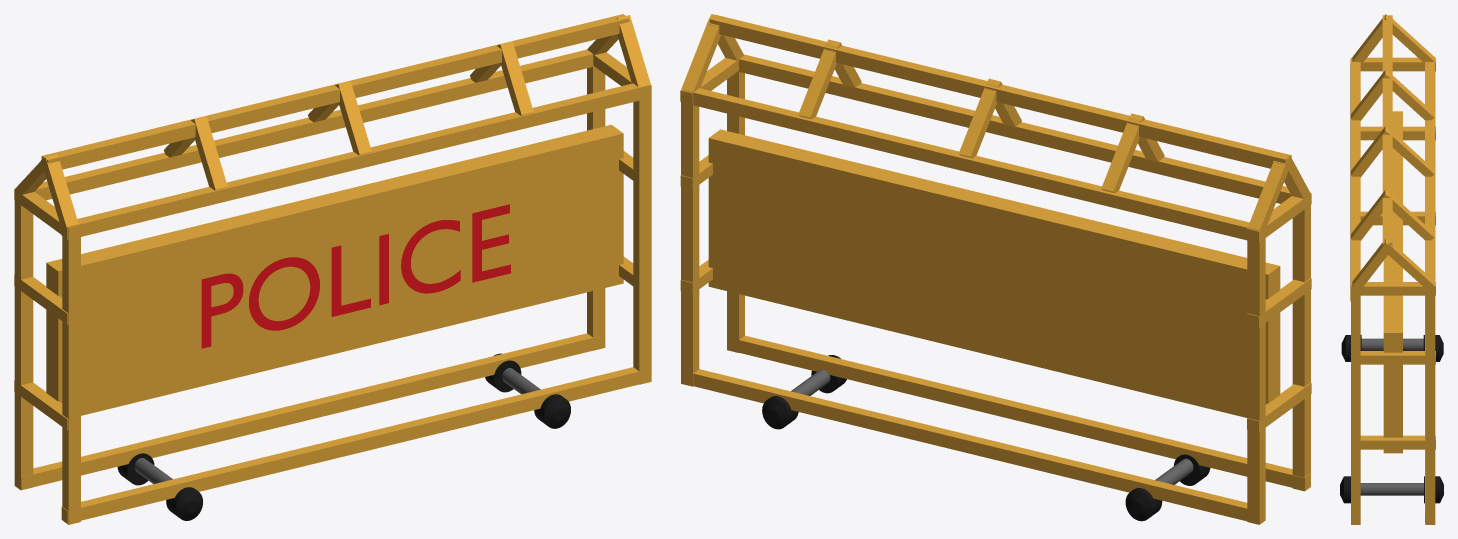
File: police barrier.fbx
3 views of the same model, side by side, from view 1: azimuth 30°, elevation 25°; view 2: azimuth 150°, elevation 25°; view 3: azimuth 270°, elevation 25° (orthographic). The views are drawn at different scales.
Visible parts, largest first — view 1: Cube, Cube.006, Cube.014, Cube.007, Cube.013, Cube.015, Text, Cube.001, Cube.008, Cube.002, Cube.009, Cube.017 (+10 smaller); view 2: Cube, Cube.015, Cube.006, Cube.007, Cube.013, Cube.014, Cube.002, Cube.009, Cube.001, Cube.008, Cube.018, Cube.020 (+9 smaller); view 3: Cube, Cube.009, Cube.008, Cube.013, Cube.015, Cube.014, Cube.010, Cube.023, Cube.025, Cylinder.001, Cube.003, Cube.011 (+19 smaller).
Boxes of the visible parts, left/top/right/bottom form: Cube: left=46, top=124, right=623, bottom=415; Cube.006: left=61, top=367, right=649, bottom=523; Cube.014: left=61, top=83, right=649, bottom=239; Cube.007: left=21, top=333, right=602, bottom=489; Cube.013: left=41, top=14, right=629, bottom=169; Cube.015: left=21, top=49, right=593, bottom=206; Text: left=201, top=204, right=510, bottom=348; Cube.001: left=62, top=225, right=80, bottom=524; Cube.008: left=633, top=85, right=651, bottom=384; Cube.002: left=14, top=189, right=33, bottom=490; Cube.009: left=587, top=66, right=605, bottom=350; Cube.017: left=191, top=116, right=227, bottom=190; Cube: left=708, top=129, right=1280, bottom=417; Cube.015: left=683, top=88, right=1259, bottom=240; Cube.006: left=739, top=335, right=1310, bottom=490; Cube.007: left=693, top=369, right=1247, bottom=521; Cube.013: left=709, top=15, right=1291, bottom=168; Cube.014: left=738, top=54, right=1310, bottom=209; Cube.002: left=1247, top=227, right=1265, bottom=524; Cube.009: left=681, top=93, right=699, bottom=386; Cube.001: left=1292, top=206, right=1310, bottom=491; Cube.008: left=727, top=71, right=744, bottom=352; Cube.018: left=958, top=83, right=998, bottom=158; Cube.020: left=798, top=44, right=838, bottom=119; Cube: left=1383, top=111, right=1402, bottom=453; Cube.009: left=1425, top=286, right=1435, bottom=524; Cube.008: left=1351, top=286, right=1360, bottom=524; Cube.013: left=1382, top=15, right=1392, bottom=246; Cube.015: left=1425, top=62, right=1434, bottom=280; Cube.014: left=1351, top=57, right=1360, bottom=285; Cube.010: left=1351, top=282, right=1435, bottom=295; Cube.023: left=1360, top=435, right=1435, bottom=449; Cube.025: left=1360, top=351, right=1435, bottom=364; Cylinder.001: left=1360, top=483, right=1423, bottom=495; Cube.003: left=1360, top=57, right=1435, bottom=71; Cube.011: left=1384, top=244, right=1434, bottom=288.
Size of the model in its own units: 815 by 502 by 156.
